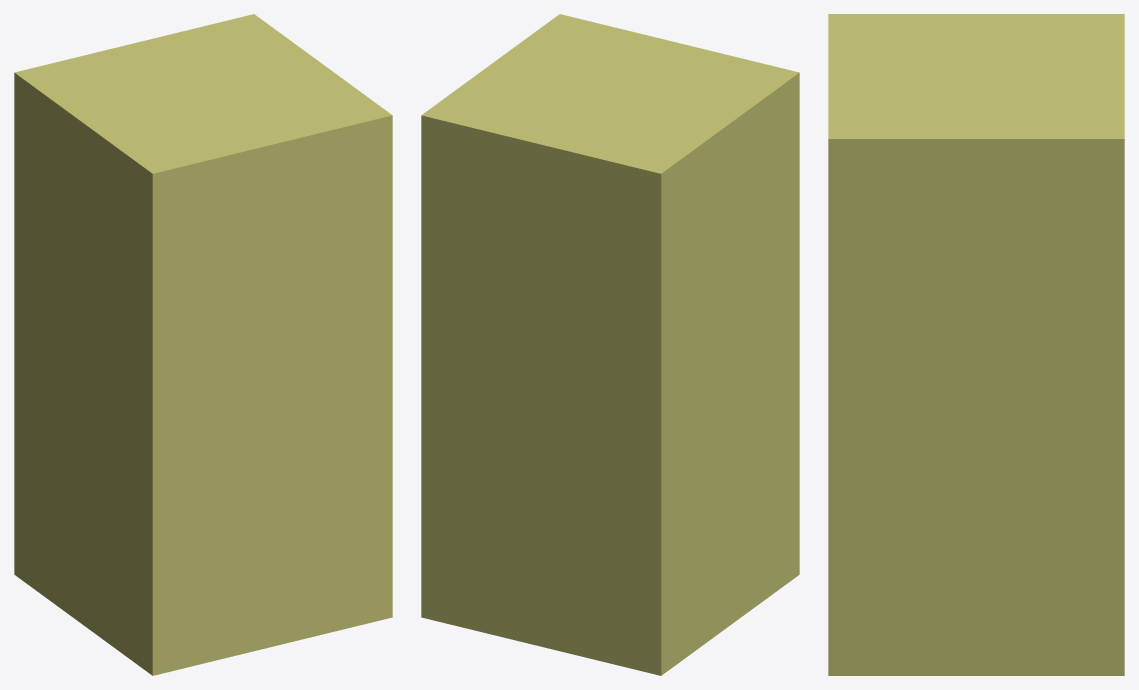
File: Abstract_Castle_Block_Double_Green_01.fbx
3 renders of one model, left to right at view 1: azimuth 30°, elevation 25°; view 2: azimuth 150°, elevation 25°; view 3: azimuth 270°, elevation 25°, orthographic. The views are drawn at different scales.
Visible parts, largest first — view 1: Model; view 2: Model; view 3: Model.
Part boxes in pixels (box(x1,y1,x2,y2)): Model: box(14, 14, 392, 675); Model: box(421, 14, 799, 675); Model: box(828, 14, 1124, 675).
Size of the model in its own units: 1000 by 2000 by 1000.
